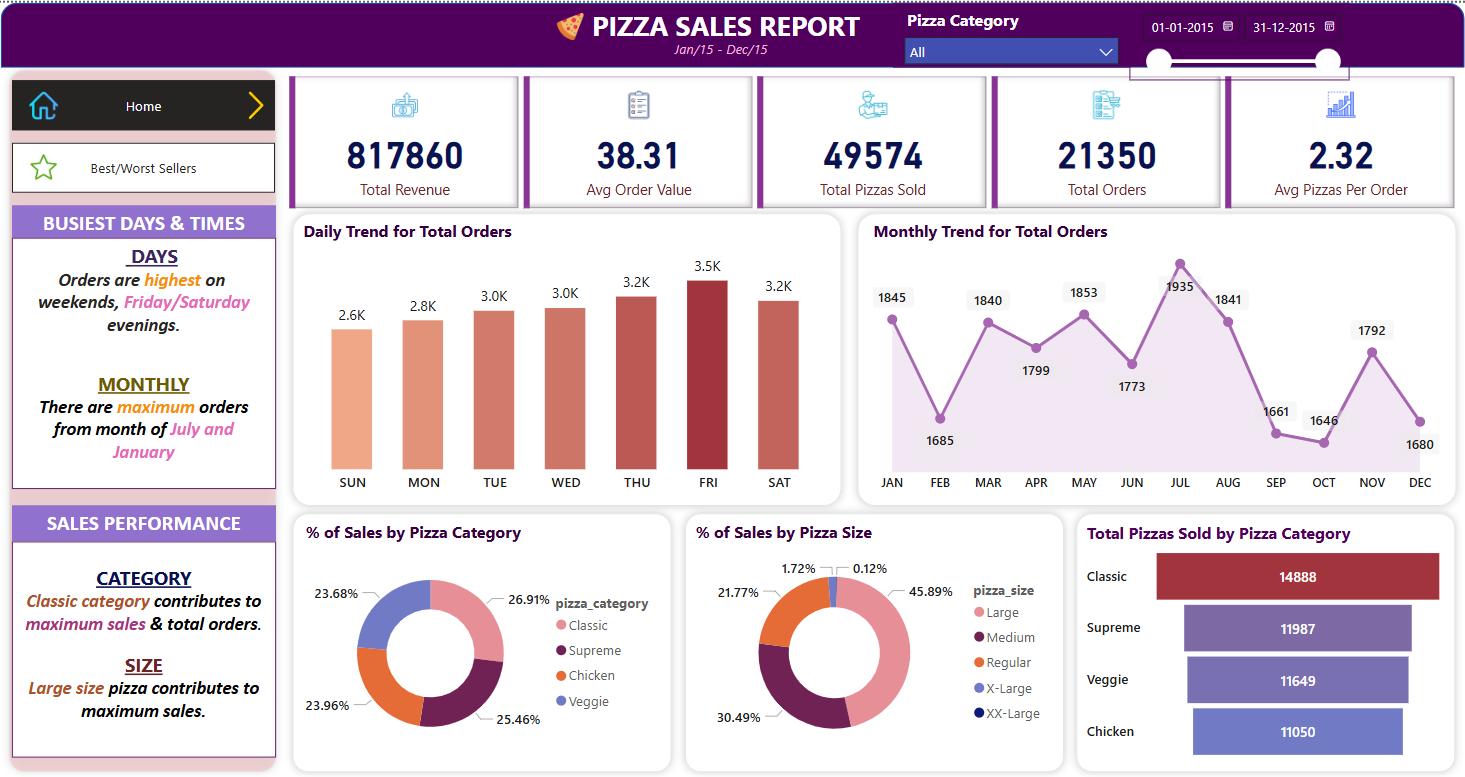

The dashboard page shown, as its layout file describes it:
{"tool":"powerbi","page":{"name":"Home","canvas":[1500,820],"ordinal":0},"visuals":[{"type":"shape","box":[18.8,58.8,283.8,718.8],"z":0},{"type":"cardVisual","fields":{"Data":["pizza_sales.Total Revenue","pizza_sales.Avg Order Value","pizza_sales.Total Pizzas Sold","pizza_sales.Total Orders","pizza_sales.Avg Pizzas Per Order"]},"box":[302.5,68.8,1178.8,142.5],"z":1000},{"type":"shape","box":[18.8,0,1463.8,65],"z":2000},{"type":"textbox","box":[605,0,291.2,47.5],"z":3000},{"type":"textbox","box":[687.5,32.5,127.5,27.5],"z":4000},{"type":"image","box":[557.5,5,61.2,37.5],"z":5000},{"type":"shape","box":[302.5,202.5,565,308.8],"z":6000},{"type":"columnChart","title":"Daily Trend for Total Orders","fields":{"Category":["pizza_sales.Order day"],"Y":["pizza_sales.Total Orders"]},"box":[316.2,216.2,536.2,282.5],"z":7000},{"type":"shape","box":[867.5,202.5,615,308.8],"z":8000},{"type":"areaChart","title":"Monthly Trend for Total Orders","fields":{"Y":["pizza_sales.Total Orders"],"Category":["pizza_sales.Order month"]},"box":[886.2,216.2,576.2,282.5],"z":9000},{"type":"shape","box":[302.5,502.5,395,275],"z":10000},{"type":"shape","box":[695,502.5,395,275],"z":11000},{"type":"shape","box":[1086.2,502.5,395,275],"z":12000},{"type":"textbox","box":[30,202.5,263.8,36.2],"z":13000},{"type":"donutChart","title":"% of Sales by Pizza Category","fields":{"Y":["pizza_sales.Total Revenue"],"Category":["pizza_sales.pizza_category"]},"box":[318.8,517.5,368.8,245],"z":14000},{"type":"donutChart","title":"% of Sales by Pizza Size","fields":{"Y":["pizza_sales.Total Revenue"],"Category":["pizza_sales.pizza_size"]},"box":[708.8,517.5,367.5,243.8],"z":15000},{"type":"funnel","title":"Total Pizzas Sold by Pizza Category","fields":{"Category":["pizza_sales.pizza_category"],"Y":["pizza_sales.Total Pizzas Sold"]},"box":[1100,518.8,367.5,243.8],"z":16000},{"type":"textbox","box":[30,235,263.8,251.2],"z":17000},{"type":"textbox","box":[30,502.5,263.8,36.2],"z":18000},{"type":"textbox","box":[30,538.8,263.8,216.2],"z":19000},{"type":"slicer","fields":{"Values":["pizza_sales.pizza_category"]},"box":[911.2,0,236.2,65],"z":20000},{"type":"slicer","fields":{"Values":["pizza_sales.order_date"]},"box":[1147.5,0,220,77.5],"z":21000},{"type":"pageNavigator","box":[30,77.5,263.8,50],"z":21001},{"type":"pageNavigator","box":[30,140,263.8,50],"z":21002},{"type":"image","box":[253.8,83.8,40,37.5],"z":21003},{"type":"image","box":[42.5,81.2,38.8,42.5],"z":21004},{"type":"image","box":[41.2,146.2,41.2,36.2],"z":21005}]}

Visuals, with their boxes on the page's 1500x820 design canvas (x1, y1, x2, y2). These are canvas units, not pixel positions in the 1465x777 screenshot, which may show the page scaled, cropped or inside an application window:
shape: l=19, t=59, r=303, b=778
cardVisual - pizza_sales.Total Revenue x pizza_sales.Avg Order Value: l=302, t=69, r=1481, b=211
shape: l=19, t=0, r=1483, b=65
textbox: l=605, t=0, r=896, b=48
textbox: l=688, t=32, r=815, b=60
image: l=558, t=5, r=619, b=42
shape: l=302, t=202, r=868, b=511
"Daily Trend for Total Orders" columnChart: l=316, t=216, r=852, b=499
shape: l=868, t=202, r=1482, b=511
"Monthly Trend for Total Orders" areaChart: l=886, t=216, r=1462, b=499
shape: l=302, t=502, r=698, b=778
shape: l=695, t=502, r=1090, b=778
shape: l=1086, t=502, r=1481, b=778
textbox: l=30, t=202, r=294, b=239
"% of Sales by Pizza Category" donutChart: l=319, t=518, r=688, b=762
"% of Sales by Pizza Size" donutChart: l=709, t=518, r=1076, b=761
"Total Pizzas Sold by Pizza Category" funnel: l=1100, t=519, r=1468, b=763
textbox: l=30, t=235, r=294, b=486
textbox: l=30, t=502, r=294, b=539
textbox: l=30, t=539, r=294, b=755
slicer - pizza_sales.pizza_category: l=911, t=0, r=1147, b=65
slicer - pizza_sales.order_date: l=1148, t=0, r=1368, b=78
pageNavigator: l=30, t=78, r=294, b=128
pageNavigator: l=30, t=140, r=294, b=190
image: l=254, t=84, r=294, b=121
image: l=42, t=81, r=81, b=124
image: l=41, t=146, r=82, b=182
